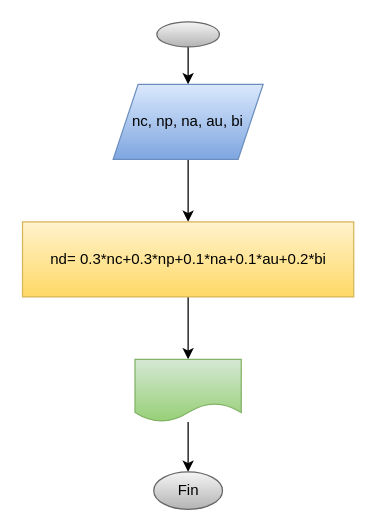
Image size: 375x531. Some labels were removed from this diagram. Each missing label, with the centre of its shape:
"Inicio" goes at point (187, 34).
"nd" goes at point (187, 390).
